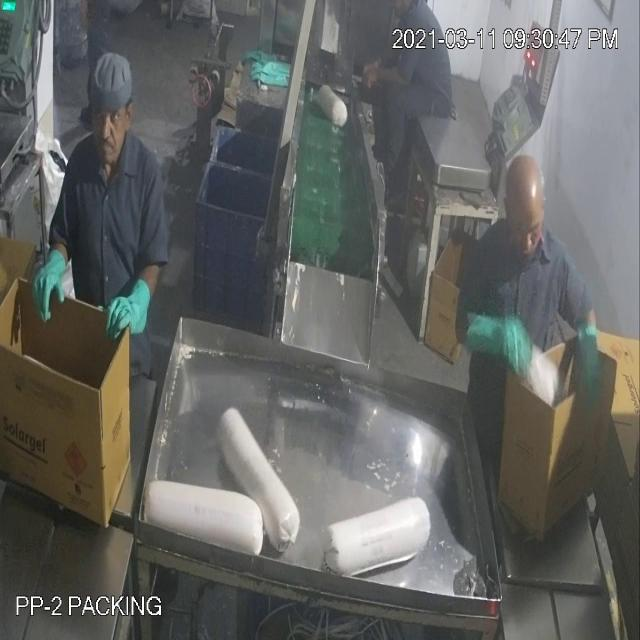gloves: (458, 308, 532, 384), (106, 265, 158, 354), (573, 315, 605, 416)
no-gloves: (364, 57, 414, 104)
